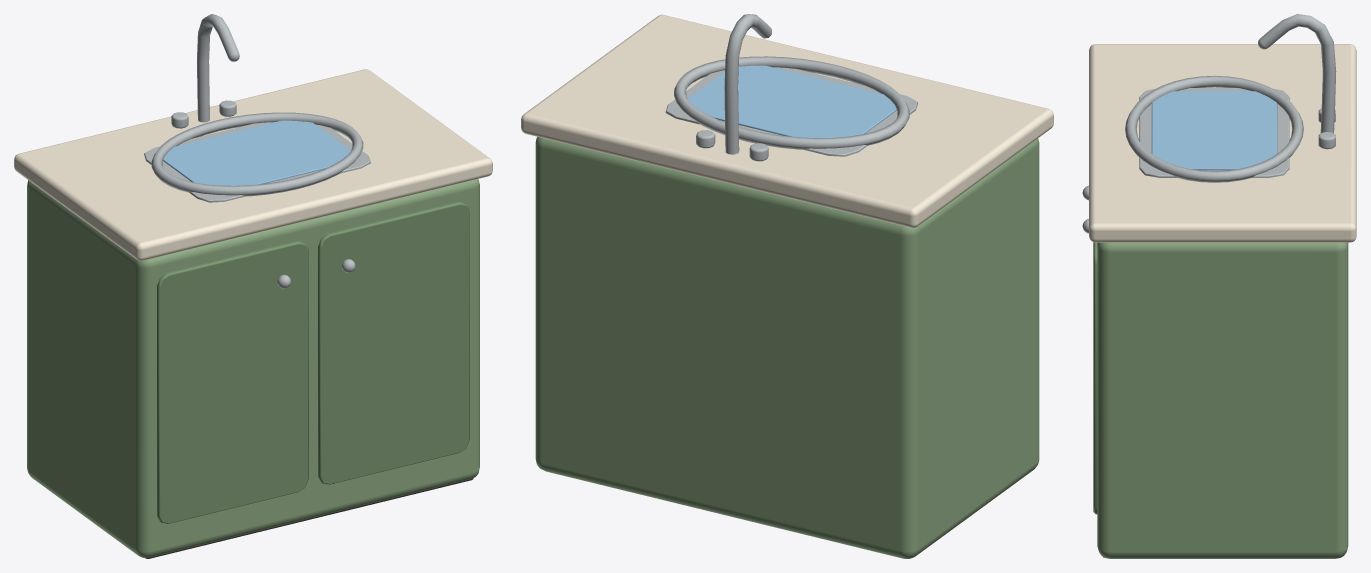
Rendered from kitchen_sink.glb.
3 views of the same model, side by side, from view 1: azimuth 30°, elevation 25°; view 2: azimuth 150°, elevation 25°; view 3: azimuth 270°, elevation 25° (orthographic). The views are drawn at different scales.
Visible parts, largest first — view 1: kitchen_sink_mesh; view 2: kitchen_sink_mesh; view 3: kitchen_sink_mesh.
Part boxes in pixels (box(x1,y1,x2,y2)): kitchen_sink_mesh: box(14, 14, 492, 558); kitchen_sink_mesh: box(521, 14, 1053, 558); kitchen_sink_mesh: box(1082, 14, 1356, 558).
Size of the model in its own units: 1.04 by 1.22 by 0.656.
